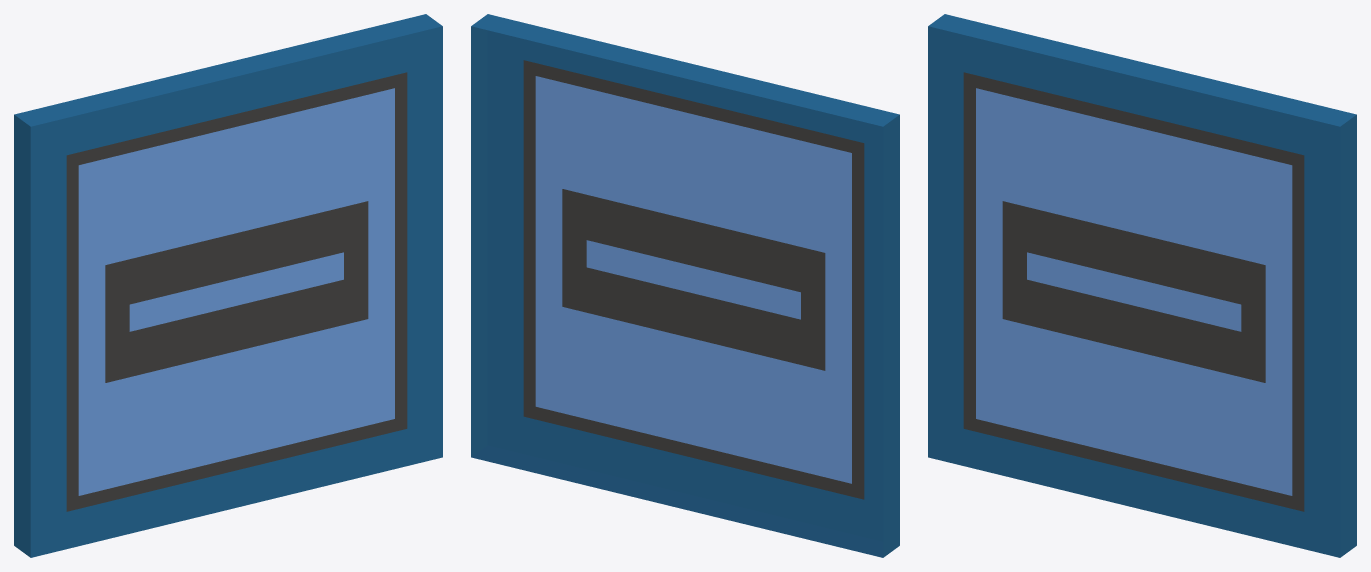
The model's file is WallDeco6.glb.
The picture shows the model from 3 angles, left to right: view 1: azimuth 30°, elevation 25°; view 2: azimuth 150°, elevation 25°; view 3: azimuth 330°, elevation 25°; orthographic projection.
Visible parts, largest first — view 1: SI_Prop_WallDeco_07; view 2: SI_Prop_WallDeco_07; view 3: SI_Prop_WallDeco_07.
Part boxes in pixels (<box>): SI_Prop_WallDeco_07: <box>14,14,442,557</box>; SI_Prop_WallDeco_07: <box>471,14,899,557</box>; SI_Prop_WallDeco_07: <box>928,14,1356,557</box>.
Size of the model in its own units: 0.01 by 0.01 by 0.000702.
Materials: 1 (1 with a texture image).
